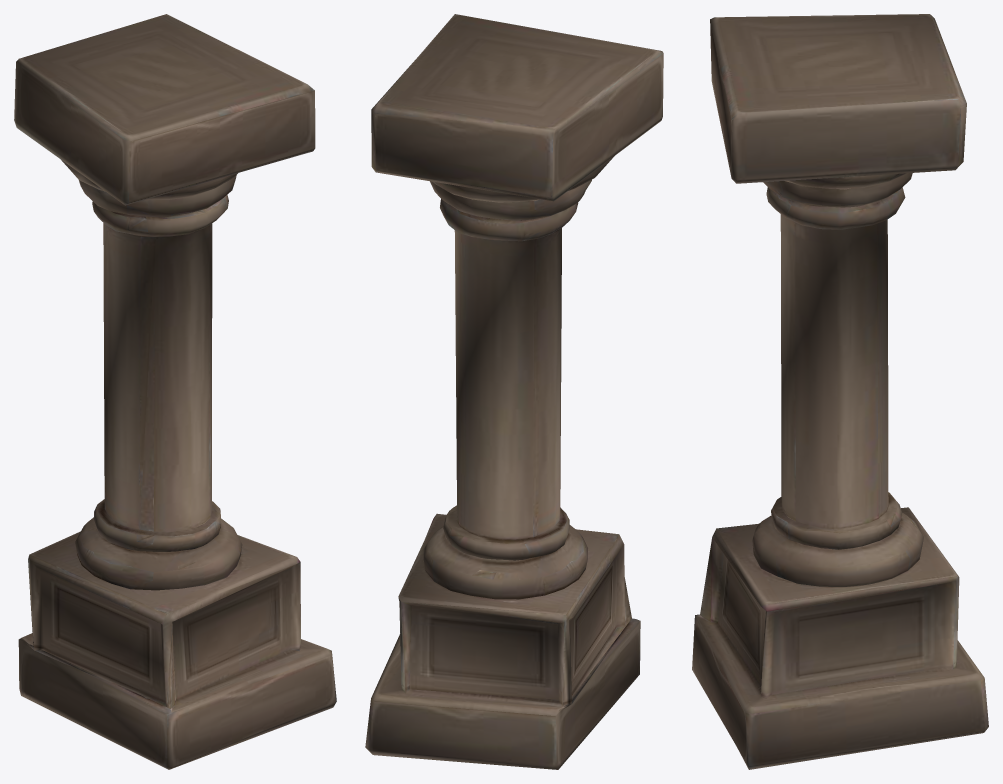
Rendered from sd_pilar.glb.
The picture shows the model from 3 angles, left to right: view 1: azimuth 30°, elevation 25°; view 2: azimuth 150°, elevation 25°; view 3: azimuth 270°, elevation 25°; orthographic projection.
Visible parts, largest first — view 1: Mesh_0.013; view 2: Mesh_0.013; view 3: Mesh_0.013.
Part boxes in pixels (bbox=[...]): Mesh_0.013: bbox=[14, 14, 336, 769]; Mesh_0.013: bbox=[365, 14, 663, 769]; Mesh_0.013: bbox=[692, 14, 988, 769].
Bounding box in the file's own units: 0.1935 × 0.5161 × 0.2153.
1 material, 1 textured.
